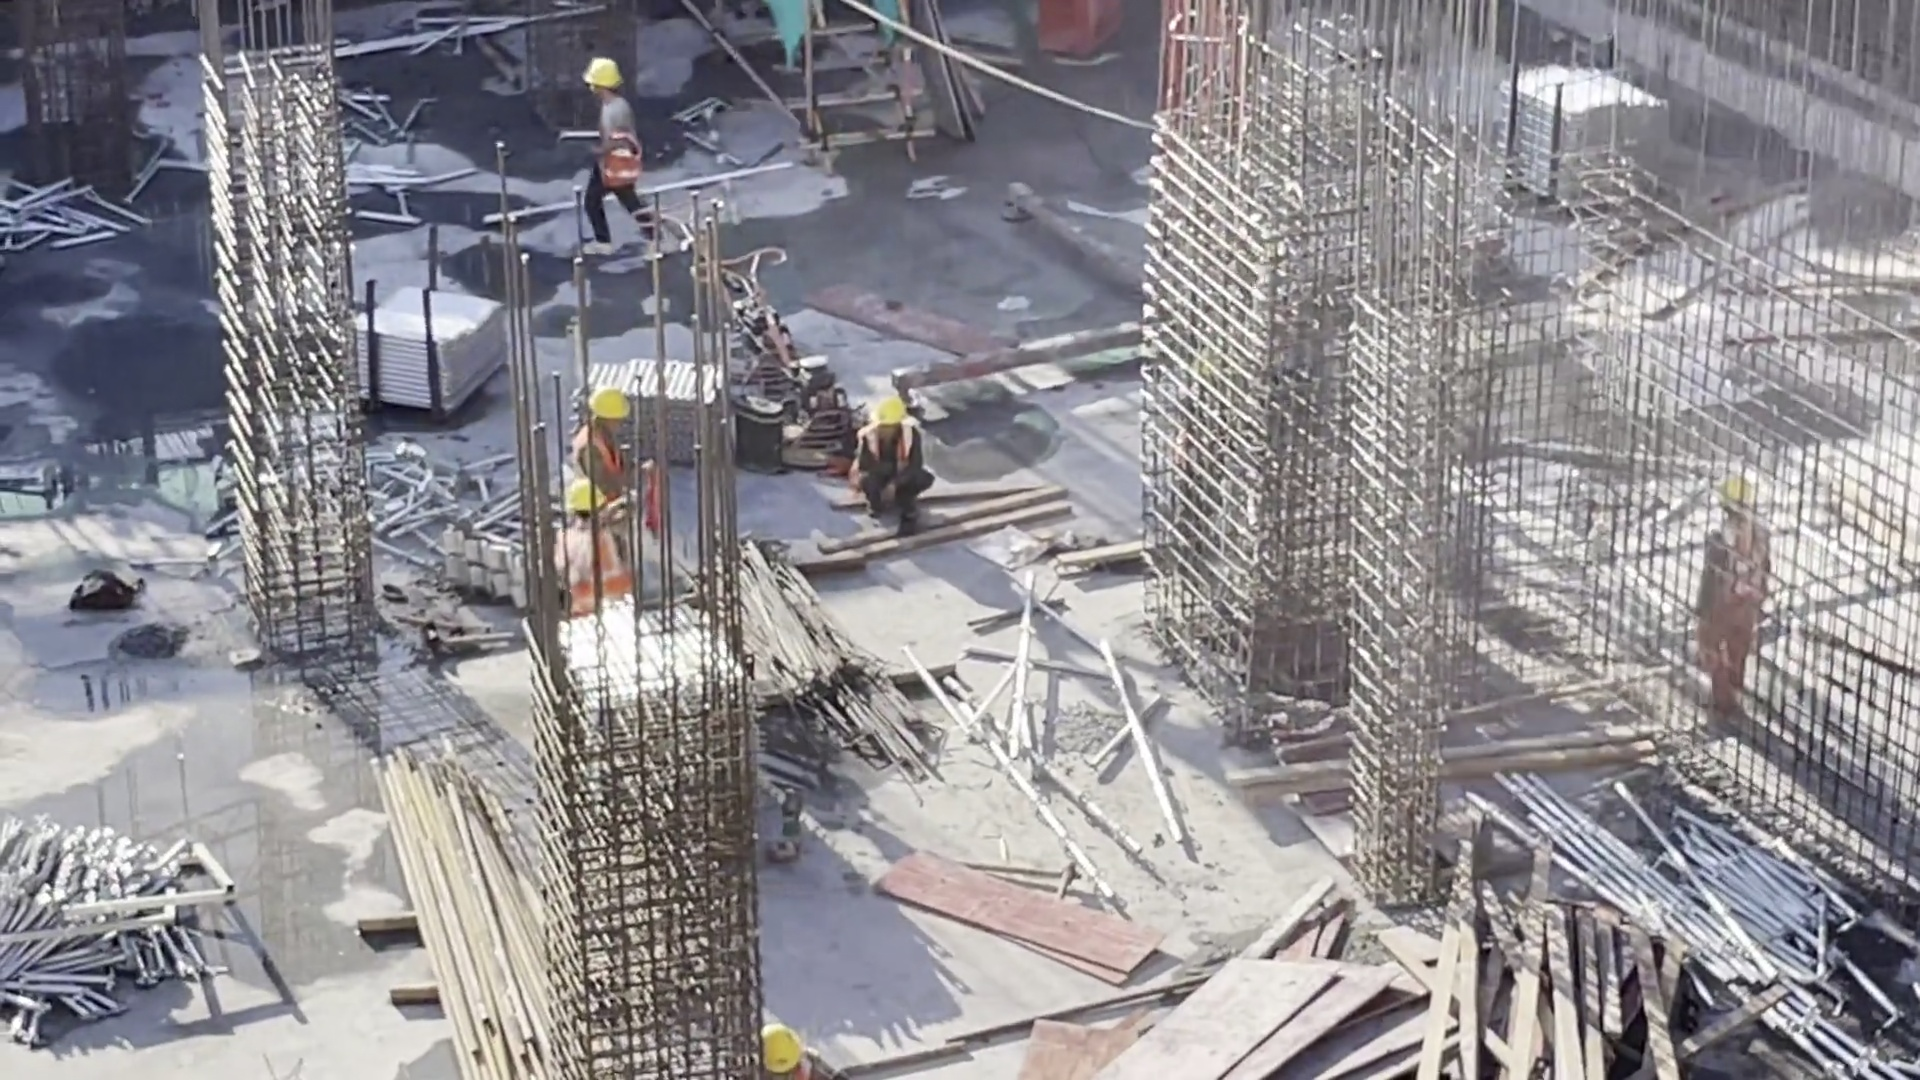board: (1077, 955, 1434, 1080)
helmet: (752, 1023, 810, 1069), (592, 386, 638, 419), (1715, 469, 1755, 506), (570, 478, 608, 513), (871, 394, 923, 419), (584, 58, 623, 85)
person: (1701, 472, 1793, 769), (562, 54, 686, 267), (558, 389, 666, 565), (521, 456, 621, 627), (838, 393, 952, 522), (749, 995, 828, 1080)
scaffold: (1, 808, 204, 1037), (1630, 808, 1844, 983), (1490, 56, 1666, 217), (349, 273, 501, 418), (587, 352, 771, 462), (450, 481, 557, 592)
vest: (1708, 520, 1774, 616), (561, 529, 623, 612), (566, 432, 636, 501), (593, 110, 655, 182), (849, 431, 925, 482)
wood: (1433, 856, 1681, 1080)
